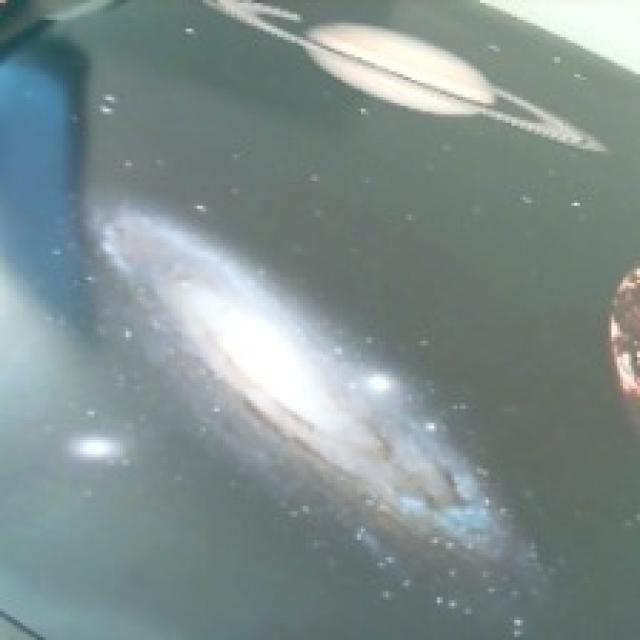Galaxy: (76, 190, 538, 592)
Saturn: (201, 0, 609, 156)
